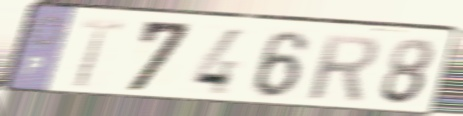4: (186, 25, 248, 98)
6: (250, 28, 313, 102)
7: (125, 18, 195, 95)
8: (376, 36, 437, 108)
R: (305, 31, 381, 103)
T: (70, 16, 127, 90)
